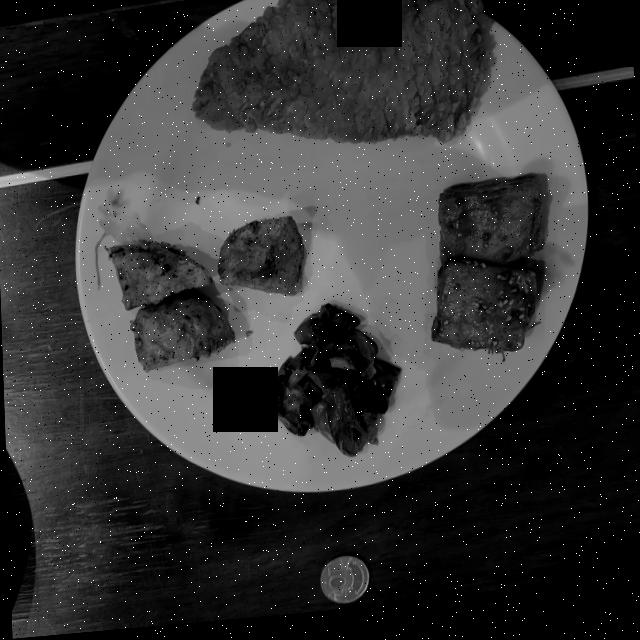coin: (319, 561, 368, 610)
creamy tofu: (430, 184, 542, 360)
fried chicken cutlet: (192, 0, 485, 150)
fried potato: (107, 242, 234, 373), (216, 221, 302, 301)
